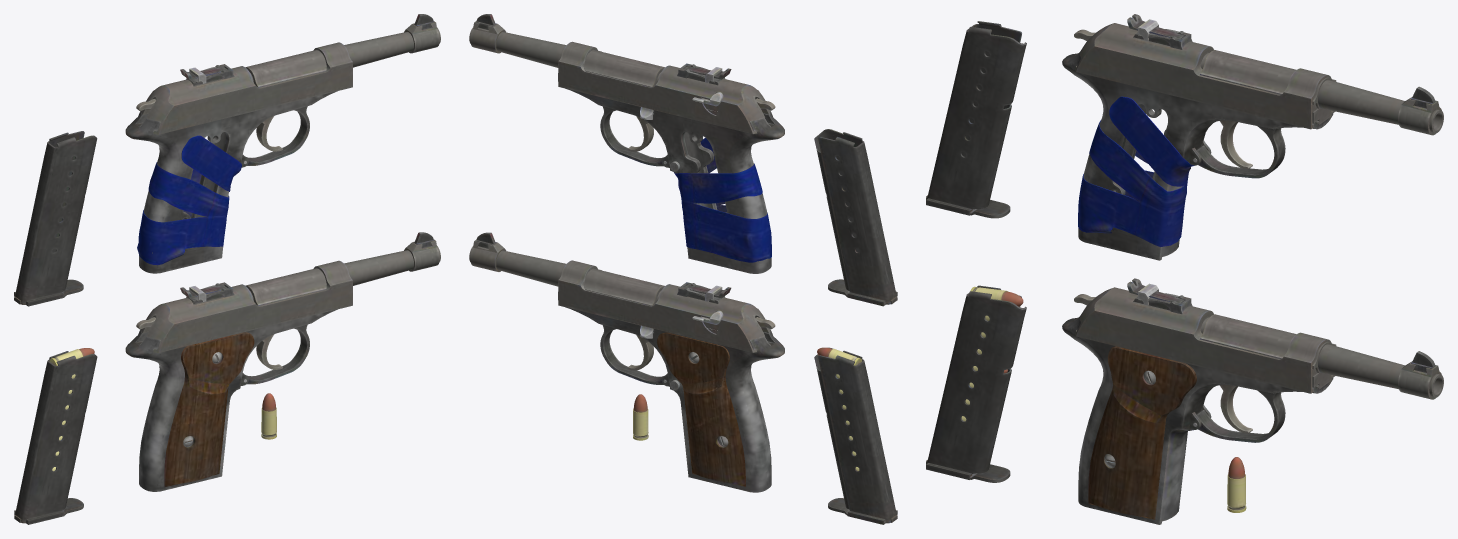
File: pistol.glb
3 views of the same model, side by side, from view 1: azimuth 30°, elevation 25°; view 2: azimuth 150°, elevation 25°; view 3: azimuth 330°, elevation 25° (orthographic). The views are drawn at different scales.
Visible parts, largest first — view 1: service_pistol_pistol_b, service_pistol_pistol_a, service_pistol_magazine_loaded, service_pistol_magazine_empty, service_pistol_slide_a, service_pistol_slide_b, service_pistol_bullet; view 2: service_pistol_pistol_b, service_pistol_pistol_a, service_pistol_magazine_loaded, service_pistol_magazine_empty, service_pistol_slide_a, service_pistol_slide_b, service_pistol_bullet; view 3: service_pistol_pistol_a, service_pistol_pistol_b, service_pistol_magazine_loaded, service_pistol_magazine_empty, service_pistol_slide_b, service_pistol_slide_a, service_pistol_bullet, service_pistol_trigger_b, service_pistol_trigger_a.
Boxes of the visible parts, box(x1,y1,x2,y2) form: service_pistol_pistol_b: box(125, 14, 440, 273); service_pistol_pistol_a: box(125, 232, 440, 491); service_pistol_magazine_loaded: box(14, 348, 97, 524); service_pistol_magazine_empty: box(14, 131, 97, 306); service_pistol_slide_a: box(141, 260, 352, 352); service_pistol_slide_b: box(141, 42, 352, 134); service_pistol_bullet: box(261, 393, 276, 439); service_pistol_pistol_b: box(469, 14, 784, 273); service_pistol_pistol_a: box(469, 232, 784, 492); service_pistol_magazine_loaded: box(814, 347, 897, 524); service_pistol_magazine_empty: box(814, 129, 897, 306); service_pistol_slide_a: box(558, 260, 772, 352); service_pistol_slide_b: box(558, 41, 772, 133); service_pistol_bullet: box(633, 394, 648, 440); service_pistol_pistol_a: box(1062, 314, 1443, 524); service_pistol_pistol_b: box(1062, 50, 1443, 260); service_pistol_magazine_loaded: box(926, 285, 1026, 482); service_pistol_magazine_empty: box(926, 21, 1026, 218); service_pistol_slide_b: box(1075, 14, 1336, 129); service_pistol_slide_a: box(1075, 278, 1336, 393); service_pistol_bullet: box(1227, 457, 1246, 512); service_pistol_trigger_b: box(1220, 120, 1252, 169); service_pistol_trigger_a: box(1220, 384, 1252, 433).
Size of the model in its own units: 0.3016 by 0.2807 by 0.0318.
Materials: 1 (1 with a texture image).
